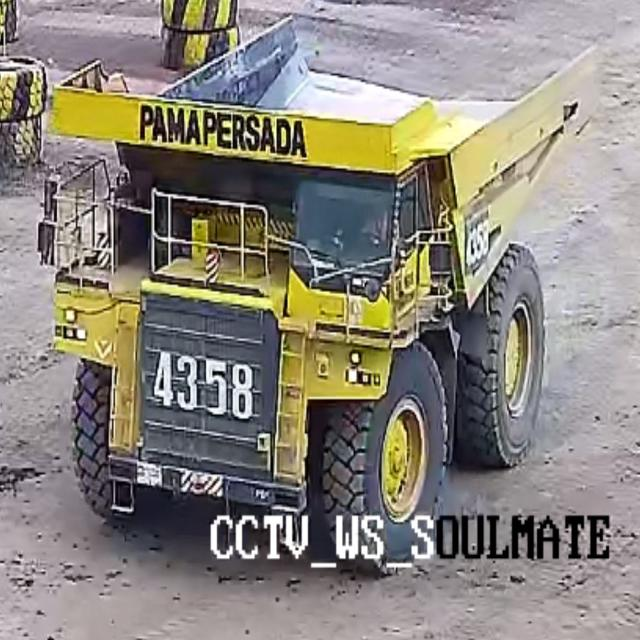dump_truck: (36, 16, 600, 584)
